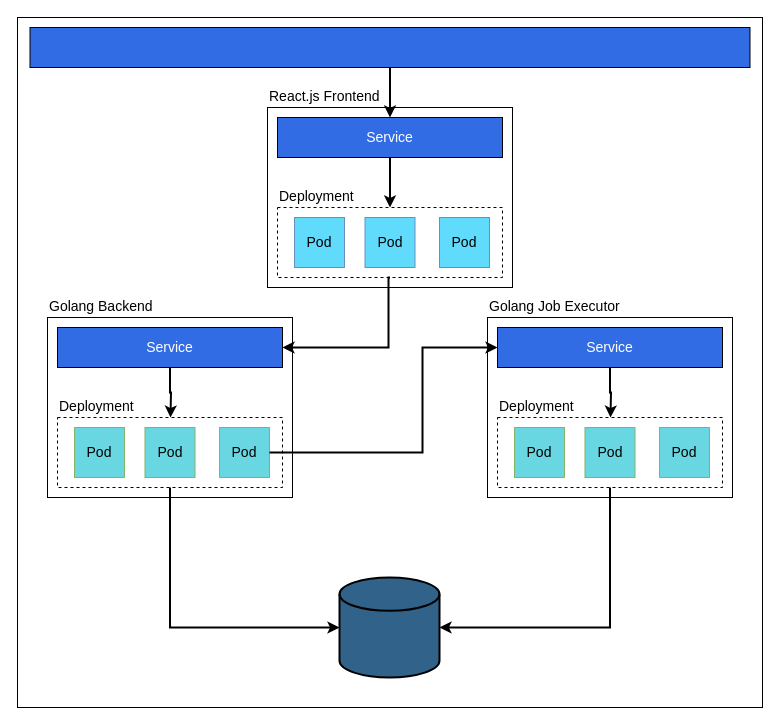
Image size: 780x725. Some labels were removed from this diagram. Each missing label, with the centre of its shape:
"Ingress" goes at pixel 389 47.
"PostgreSQL" goes at pixel 389 627.
